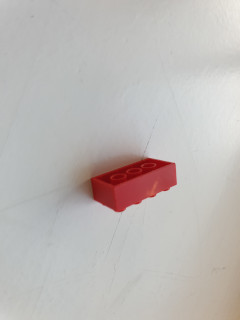2x4 red: (82, 157, 183, 212)
